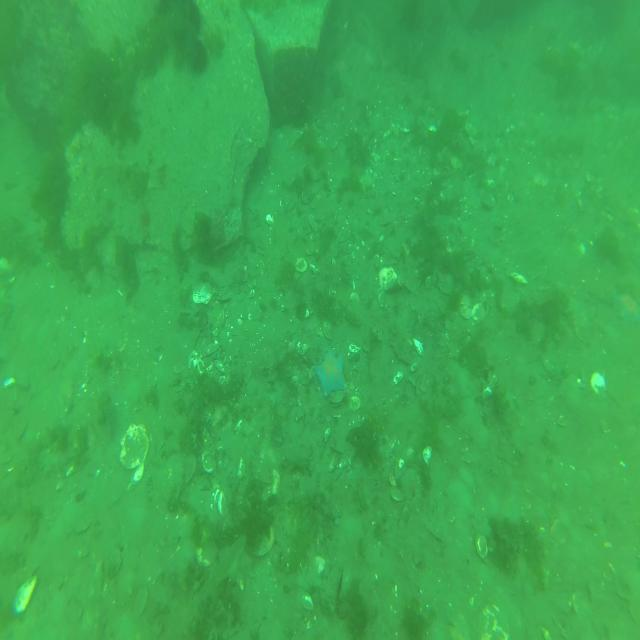echinus: (183, 34, 210, 74)
starfish: (311, 348, 347, 398), (611, 288, 640, 327)
